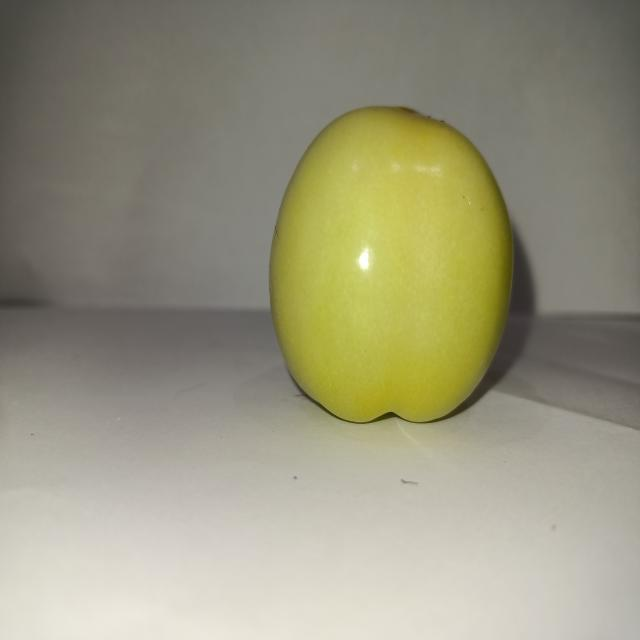Red: (267, 103, 515, 424)
